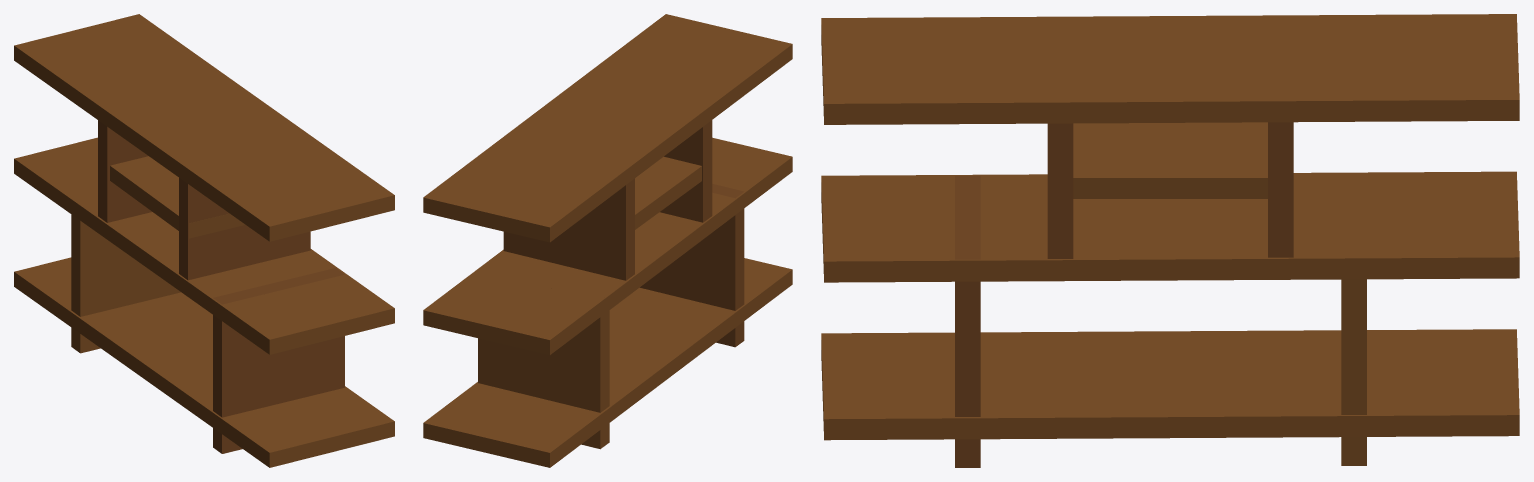
3 renders of one model, left to right at view 1: azimuth 30°, elevation 25°; view 2: azimuth 150°, elevation 25°; view 3: azimuth 270°, elevation 25°, orthographic. The views are drawn at different scales.
Parts seen in each view (by area): view 1: top_shelf, bottom_shelf, middle_shelf, divider, divider.001, divider.002, inset_shelf, divider.003; view 2: top_shelf, bottom_shelf, middle_shelf, divider.001, divider.003, divider, inset_shelf, divider.002; view 3: top_shelf, bottom_shelf, middle_shelf, inset_shelf, divider, divider.001, divider.002, divider.003.
Boxes of the visible parts, <box> form: top_shelf: <box>14,14,394,241</box>; bottom_shelf: <box>14,257,394,467</box>; middle_shelf: <box>14,137,394,354</box>; divider: <box>213,268,344,453</box>; divider.001: <box>71,190,180,353</box>; divider.002: <box>179,178,310,280</box>; inset_shelf: <box>110,156,245,238</box>; divider.003: <box>98,120,151,222</box>; top_shelf: <box>423,14,792,242</box>; bottom_shelf: <box>423,258,792,467</box>; middle_shelf: <box>423,137,792,354</box>; divider.001: <box>478,263,609,449</box>; divider.003: <box>503,178,634,280</box>; divider: <box>640,184,744,347</box>; inset_shelf: <box>635,156,701,229</box>; divider.002: <box>660,120,712,222</box>; top_shelf: <box>821,14,1519,124</box>; bottom_shelf: <box>821,329,1519,440</box>; middle_shelf: <box>821,171,1519,282</box>; inset_shelf: <box>1073,122,1267,198</box>; divider: <box>955,176,980,467</box>; divider.001: <box>1341,174,1366,465</box>; divider.002: <box>1047,123,1073,258</box>; divider.003: <box>1268,122,1293,257</box>.
Size of the model in its own units: 0.4589 by 0.871 by 1.51.
